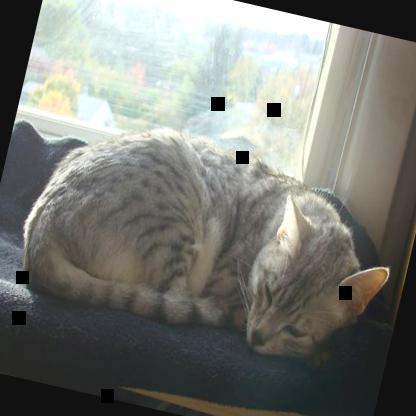cat: (9, 101, 411, 379)
